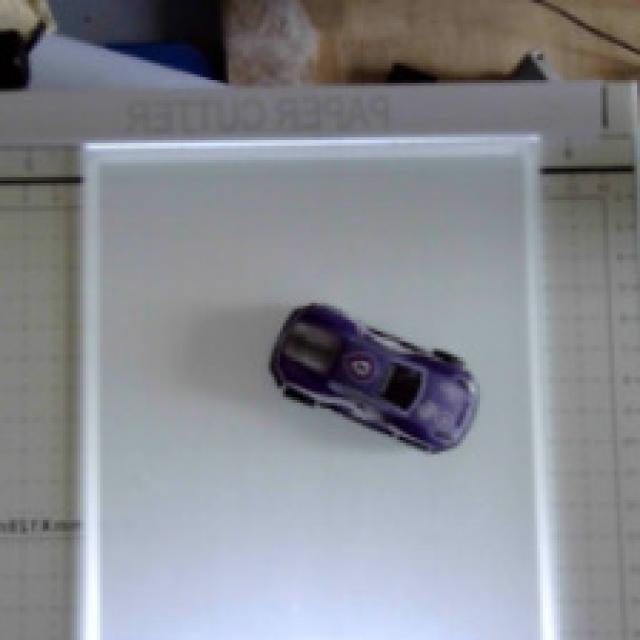Purple Car: (245, 271, 532, 483)
